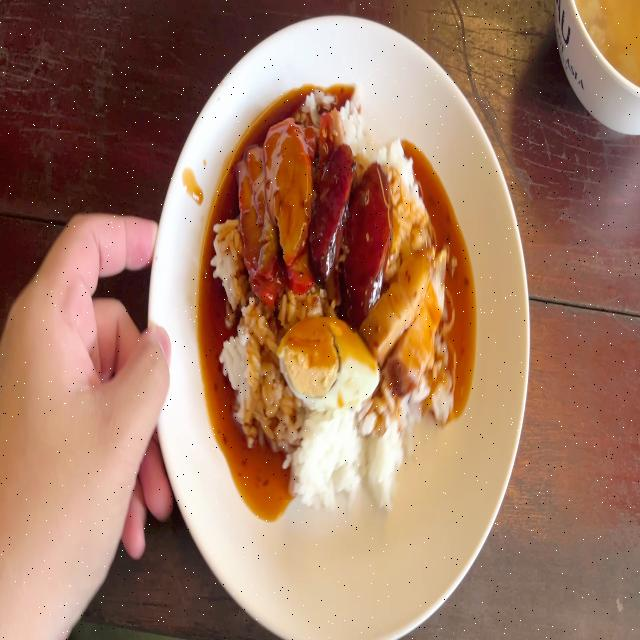boiled_egg: (281, 314, 379, 411)
chicken_drumstick: (307, 141, 389, 317), (345, 174, 388, 304), (312, 145, 352, 282)
crispy_pork: (371, 249, 448, 379), (396, 253, 449, 383), (365, 253, 432, 345)
red_pork: (243, 122, 309, 282), (265, 116, 309, 262), (240, 153, 277, 296)
red_pork_and_crispy_pork: (216, 87, 459, 491)
rice: (267, 407, 393, 491), (222, 304, 268, 432), (392, 141, 434, 254), (318, 83, 365, 146)
